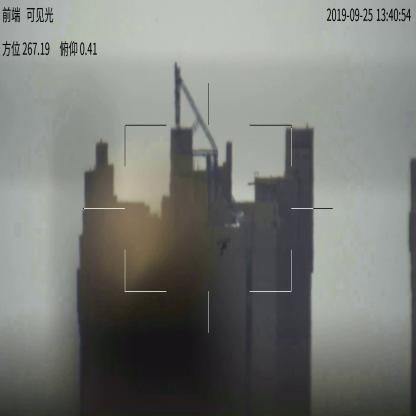uav: (214, 237, 235, 254)
